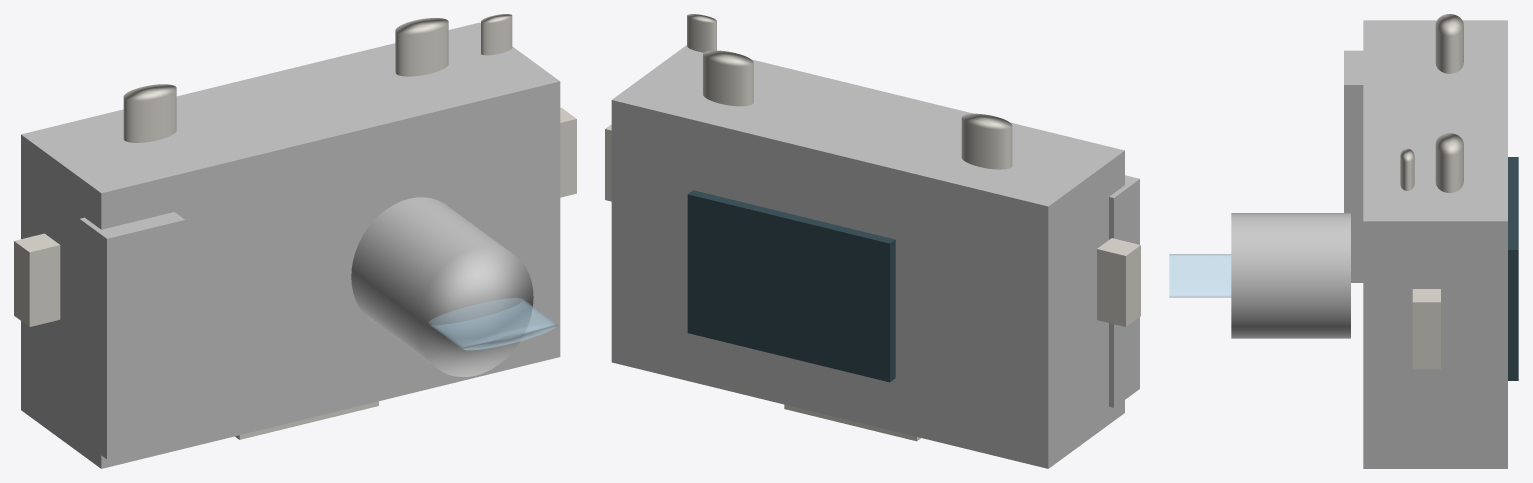
Rendered from variant-product-external.gltf.
3 views of the same model, side by side, from view 1: azimuth 30°, elevation 25°; view 2: azimuth 150°, elevation 25°; view 3: azimuth 270°, elevation 25° (orthographic). The views are drawn at different scales.
Visible parts, largest first — view 1: body, rubber-grip, lens-barrel, lens-glass, left-strap-lug, top-dial-right, top-dial-left, right-strap-lug, shutter-button, tripod-plate; view 2: body, rear-screen, rubber-grip, left-strap-lug, top-dial-left, top-dial-right, shutter-button, tripod-plate; view 3: body, lens-barrel, rubber-grip, lens-glass, rear-screen, right-strap-lug, top-dial-right, top-dial-left, shutter-button.
Part boxes in pixels (<box>): body: <box>21,22,560,468</box>; rubber-grip: <box>79,212,185,459</box>; lens-barrel: <box>351,197,533,376</box>; lens-glass: <box>428,298,557,350</box>; left-strap-lug: <box>14,233,60,326</box>; top-dial-right: <box>395,18,448,76</box>; top-dial-left: <box>123,84,176,142</box>; right-strap-lug: <box>560,107,576,197</box>; shutter-button: <box>481,14,512,55</box>; tripod-plate: <box>235,401,378,439</box>; body: <box>611,45,1124,468</box>; rear-screen: <box>687,190,895,382</box>; rubber-grip: <box>1109,175,1139,407</box>; left-strap-lug: <box>1097,238,1140,326</box>; top-dial-left: <box>961,113,1012,169</box>; top-dial-right: <box>703,50,753,106</box>; shutter-button: <box>687,14,716,52</box>; tripod-plate: <box>784,404,920,441</box>; body: <box>1363,20,1507,468</box>; lens-barrel: <box>1231,213,1350,338</box>; rubber-grip: <box>1344,50,1363,282</box>; lens-glass: <box>1169,254,1231,297</box>; rear-screen: <box>1508,157,1518,380</box>; right-strap-lug: <box>1412,289,1440,369</box>; top-dial-right: <box>1435,133,1463,192</box>; top-dial-left: <box>1435,14,1463,73</box>; shutter-button: <box>1400,149,1414,190</box>.
Bounding box in the file's own units: 3.22 × 2 × 1.98.
